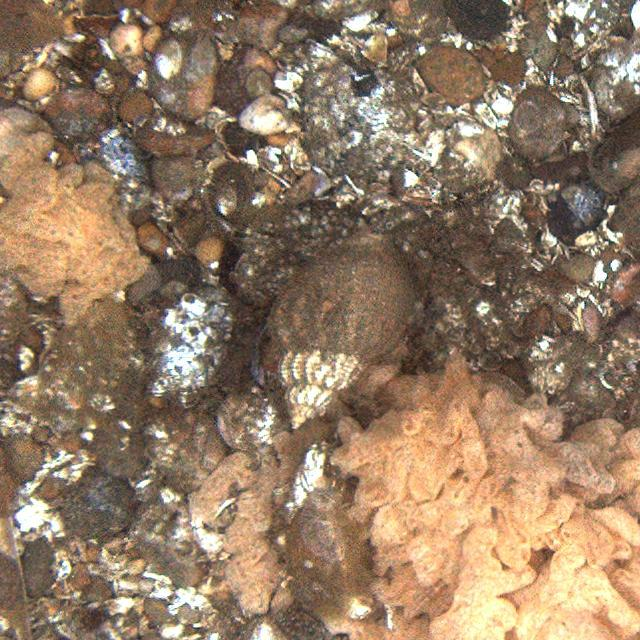whelk: (276, 233, 408, 422)
